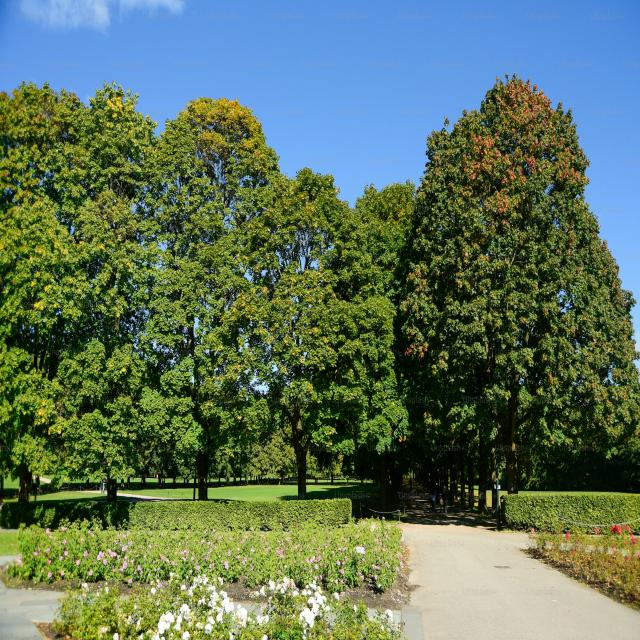trunk: (478, 509, 488, 519), (17, 501, 30, 508), (491, 515, 501, 522), (107, 498, 117, 504), (298, 496, 307, 502), (198, 498, 208, 502), (468, 504, 474, 510), (460, 501, 466, 506)
